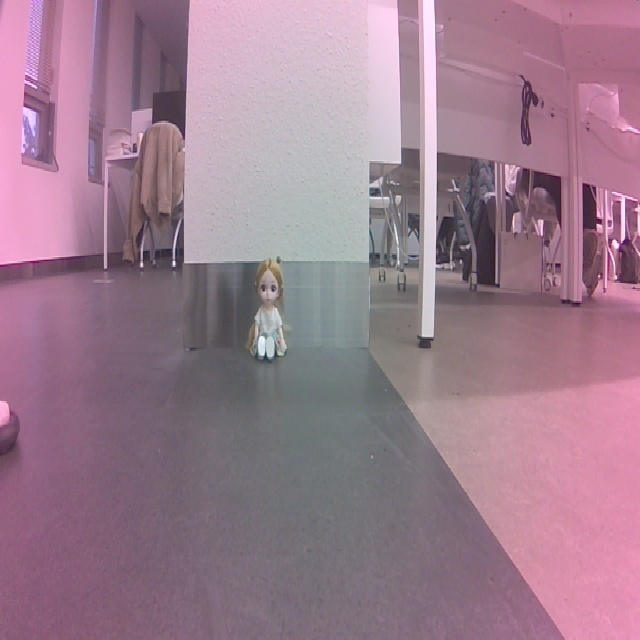장애물: (302, 235, 370, 344)
